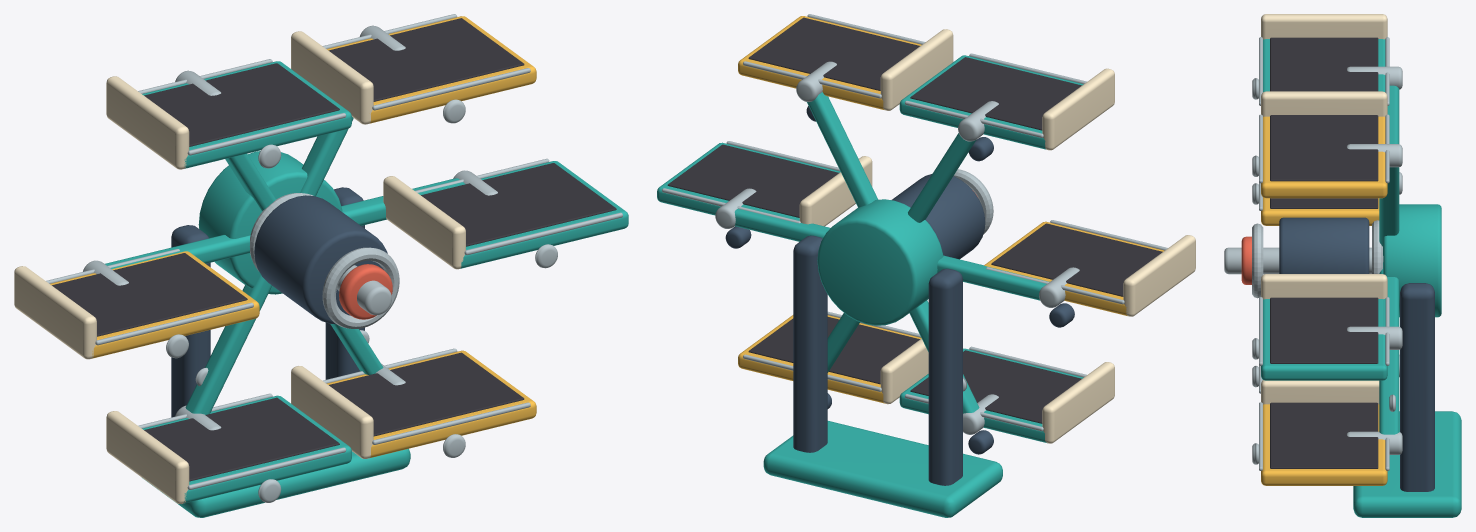
Rendered from wheel.glb.
3 views of the same model, side by side, from view 1: azimuth 30°, elevation 25°; view 2: azimuth 150°, elevation 25°; view 3: azimuth 270°, elevation 25° (orthographic). The views are drawn at different scales.
Visible parts, largest first — view 1: Batch Teal enamel (×2), Batch Brushed steel (×8), Rotor hub, Soft paddle grip.005, Soft paddle grip.001, Soft paddle grip.002, Soft paddle grip.004, Soft paddle grip, Soft paddle grip.003, Batch Midnight enamel, Rounded paddle back.004, Rounded paddle back.002 (+11 smaller); view 2: Batch Teal enamel (×2), Batch Midnight enamel, Batch Brushed steel (×8), Soft paddle grip.004, Soft paddle grip.003, Soft paddle grip, Soft paddle grip.005, Soft paddle grip.002, Soft paddle grip.001, Rotor hub, Rounded paddle back.004, Rounded paddle back.003 (+10 smaller); view 3: Batch Teal enamel (×2), Batch Brushed steel (×6), Batch Midnight enamel, Soft paddle grip, Soft paddle grip.005, Soft paddle grip.001, Soft paddle grip.004, Rotor hub, Self levelling paddle.005, Rounded paddle back.005, Rounded paddle back.004, Rounded paddle back (+7 smaller).
Part boxes in pixels (left/top/right/bottom): Batch Teal enamel (×2): left=105, top=117, right=463, bottom=517; Batch Brushed steel (×8): left=46, top=14, right=622, bottom=502; Rotor hub: left=254, top=195, right=387, bottom=324; Soft paddle grip.005: left=328, top=18, right=524, bottom=101; Soft paddle grip.001: left=329, top=352, right=524, bottom=436; Soft paddle grip.002: left=144, top=397, right=339, bottom=481; Soft paddle grip.004: left=144, top=63, right=339, bottom=146; Soft paddle grip: left=421, top=163, right=616, bottom=246; Soft paddle grip.003: left=52, top=253, right=247, bottom=336; Batch Midnight enamel: left=171, top=187, right=364, bottom=417; Rounded paddle back.004: left=106, top=76, right=189, bottom=169; Rounded paddle back.002: left=106, top=411, right=189, bottom=503; Batch Teal enamel (×2): left=734, top=92, right=1049, bottom=517; Batch Midnight enamel: left=793, top=235, right=962, bottom=485; Batch Brushed steel (×8): left=662, top=14, right=1167, bottom=434; Soft paddle grip.004: left=910, top=57, right=1081, bottom=130; Soft paddle grip.003: left=991, top=223, right=1162, bottom=296; Soft paddle grip: left=667, top=144, right=838, bottom=217; Soft paddle grip.005: left=748, top=17, right=919, bottom=90; Soft paddle grip.002: left=910, top=350, right=1081, bottom=423; Soft paddle grip.001: left=748, top=317, right=919, bottom=384; Rotor hub: left=891, top=174, right=985, bottom=259; Rounded paddle back.004: left=1042, top=68, right=1114, bottom=150; Rounded paddle back.003: left=1123, top=235, right=1195, bottom=316; Batch Teal enamel (×2): left=1353, top=85, right=1461, bottom=517; Batch Brushed steel (×6): left=1224, top=37, right=1402, bottom=470; Batch Midnight enamel: left=1400, top=283, right=1434, bottom=491; Soft paddle grip: left=1270, top=297, right=1378, bottom=363; Soft paddle grip.005: left=1270, top=115, right=1378, bottom=181; Soft paddle grip.001: left=1270, top=402, right=1378, bottom=468; Soft paddle grip.004: left=1270, top=37, right=1378, bottom=91; Rotor hub: left=1279, top=217, right=1369, bottom=273; Self levelling paddle.005: left=1261, top=116, right=1387, bottom=198; Rounded paddle back.005: left=1261, top=91, right=1387, bottom=116; Rounded paddle back.004: left=1261, top=14, right=1387, bottom=39; Rounded paddle back: left=1261, top=274, right=1387, bottom=299.
Bounding box in the file's own units: 3.25 × 2.56 × 1.43.
